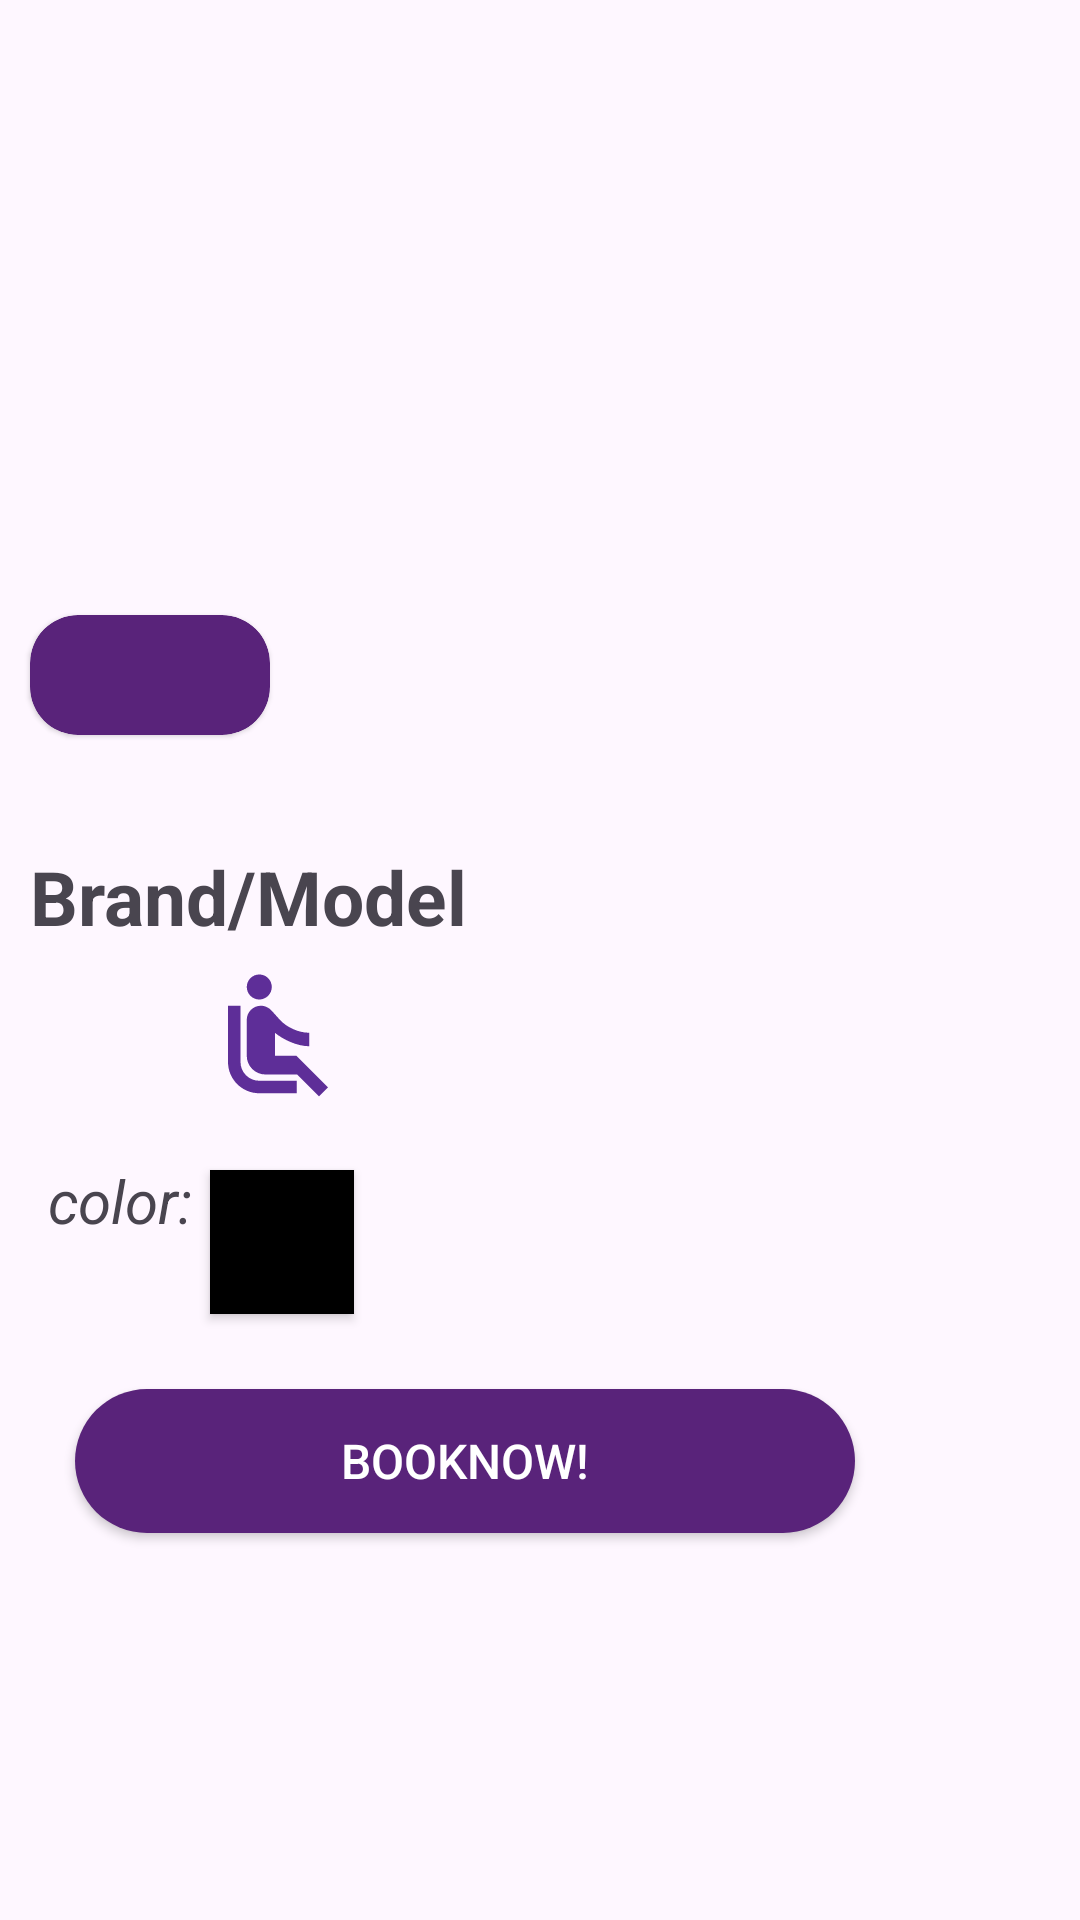

Where to tap for icons on this 1080w x 1920h app screen, as [x,y]:
airline seat recline: [278,1035]
